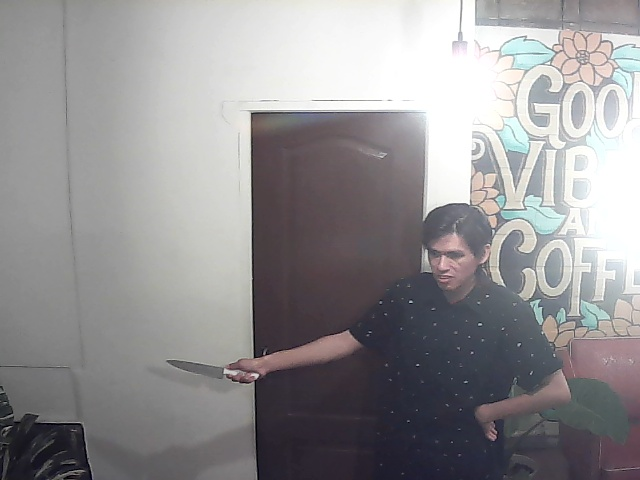cuchillo: (160, 349, 267, 390)
